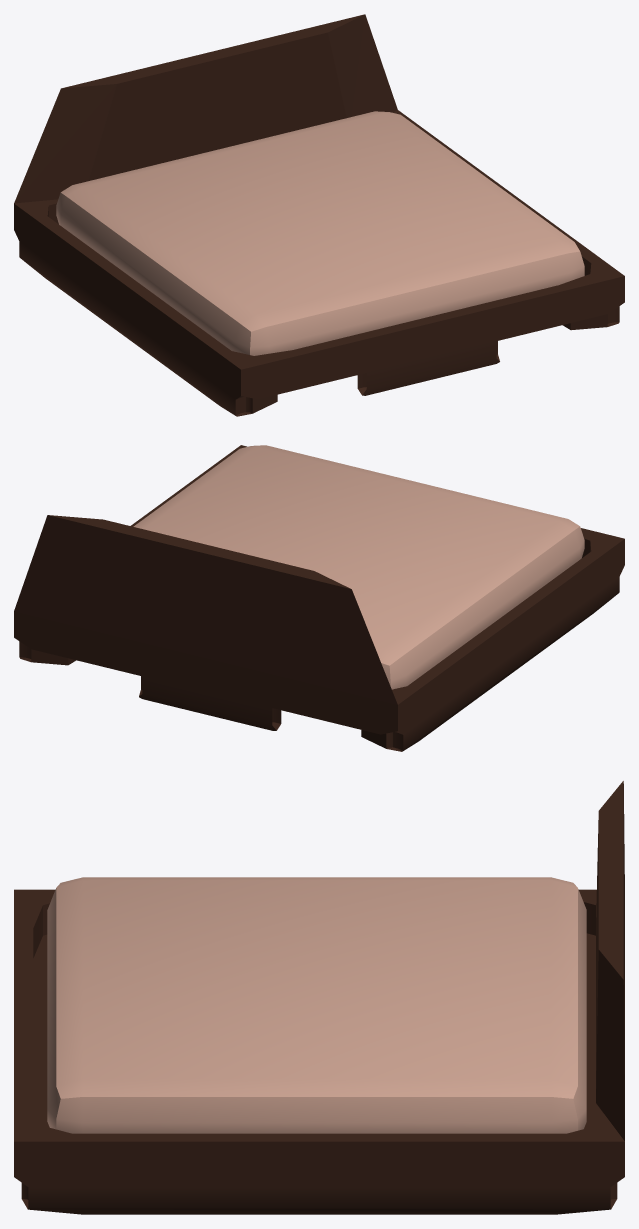
Rendered from LargeBed.fbx.
The picture shows the model from 3 angles, top to bottom: view 1: azimuth 30°, elevation 25°; view 2: azimuth 150°, elevation 25°; view 3: azimuth 270°, elevation 25°; orthographic projection. The views are drawn at different scales.
Parts seen in each view (by area): view 1: Box038, Box043; view 2: Box043, Box038; view 3: Box038, Box043.
Boxes of the visible parts, x1=… form: Box038: x1=56, y1=111, x2=584, y2=355; Box043: x1=14, y1=14, x2=624, y2=416; Box043: x1=14, y1=445, x2=624, y2=751; Box038: x1=133, y1=445, x2=584, y2=689; Box038: x1=47, y1=877, x2=586, y2=1133; Box043: x1=14, y1=781, x2=624, y2=1214.
Bounding box in the file's own units: 123 × 49.91 × 126.
